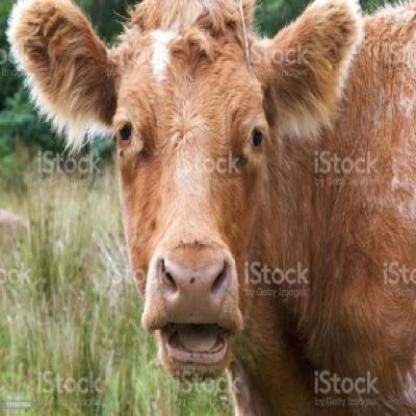lower: (184, 353, 212, 369)
mouth: (144, 243, 246, 380)
upper: (186, 279, 208, 317)
